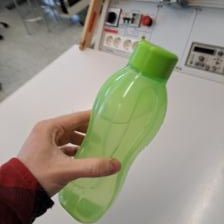bottle: (56, 38, 180, 222)
